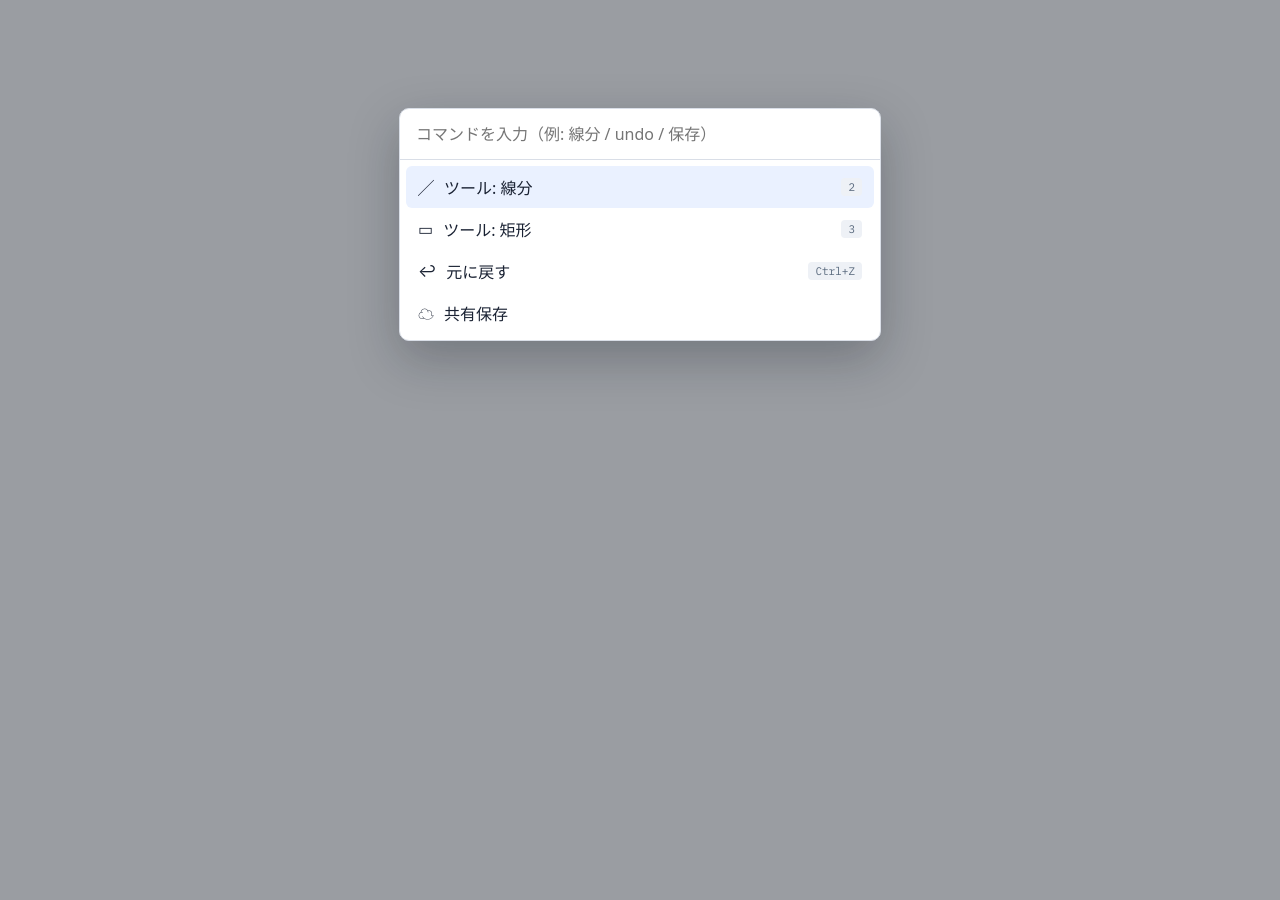
Test: CommandPalette › 不一致クエリで空メッセージを表示する
The image size is (1280, 900).
Type "存在しないコマンド" into the dropdown at {"x": 640, "y": 134}, box [400, 109, 880, 160]
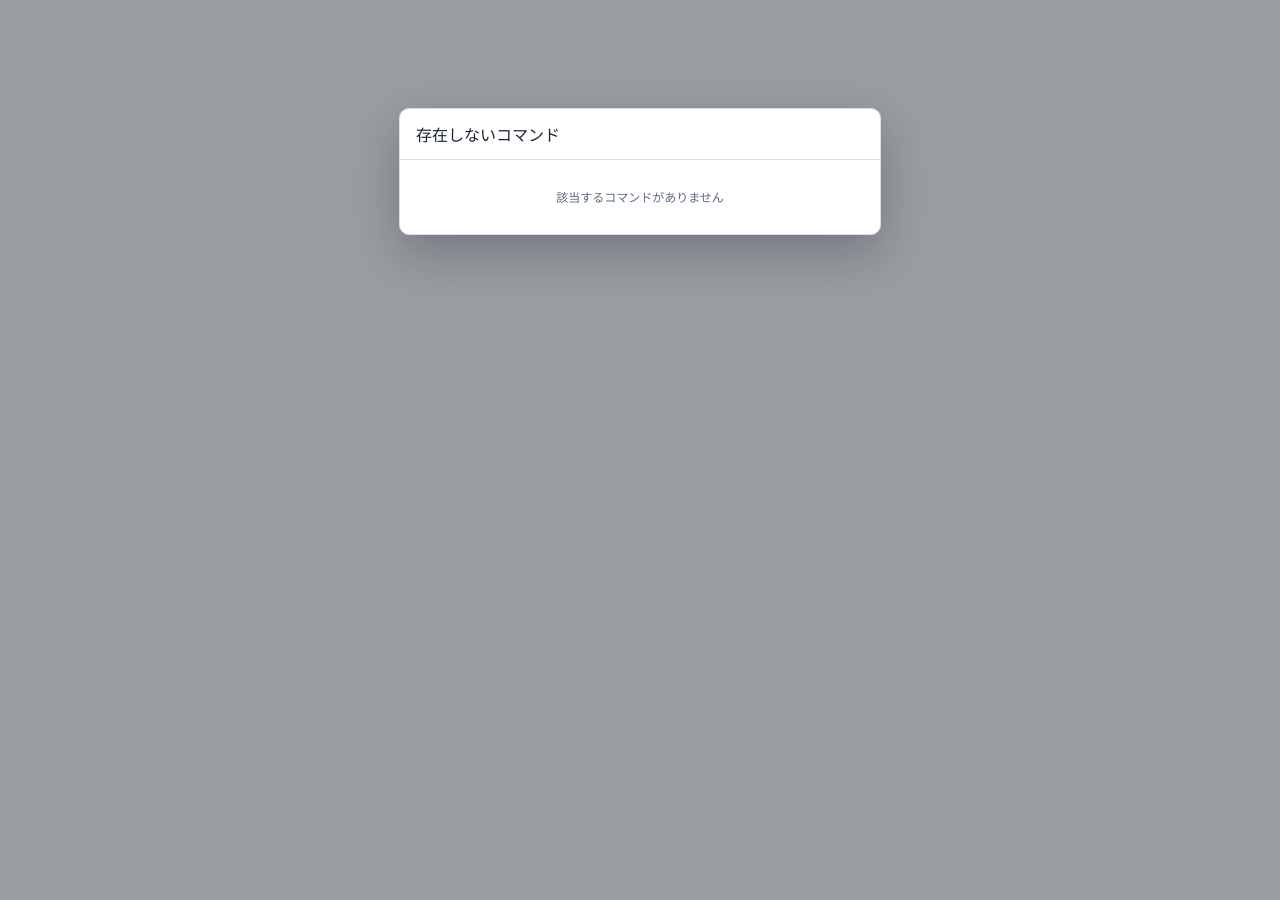
Check: the text "該当するコマンドがありません" is shown, box [556, 189, 724, 206]
